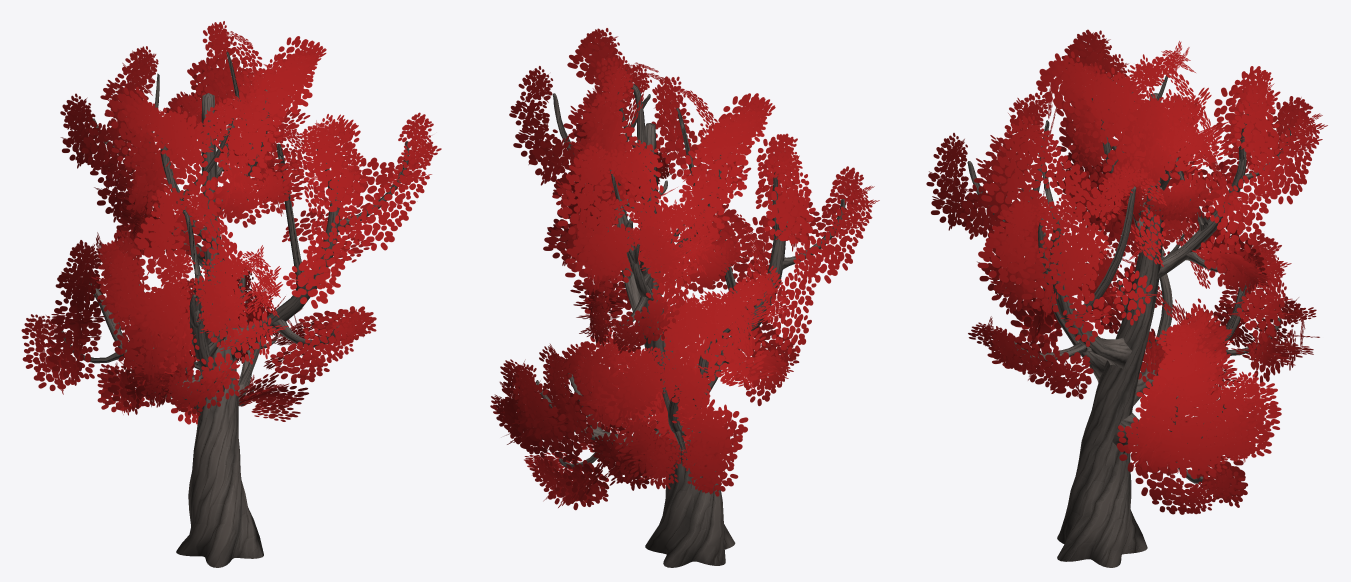
The model's file is Twisted Tree.glb.
The picture shows the model from 3 angles, left to right: view 1: azimuth 30°, elevation 25°; view 2: azimuth 150°, elevation 25°; view 3: azimuth 270°, elevation 25°; orthographic projection. The views are drawn at different scales.
Visible parts, largest first — view 1: TwistedTree_3; view 2: TwistedTree_3; view 3: TwistedTree_3.
Boxes of the visible parts, bbox=[...] form: TwistedTree_3: bbox=[21, 21, 441, 567]; TwistedTree_3: bbox=[490, 28, 879, 567]; TwistedTree_3: bbox=[926, 29, 1327, 567].
Size of the model in its own units: 11.36 by 16.07 by 11.51.
Materials: 2 (2 with a texture image).
